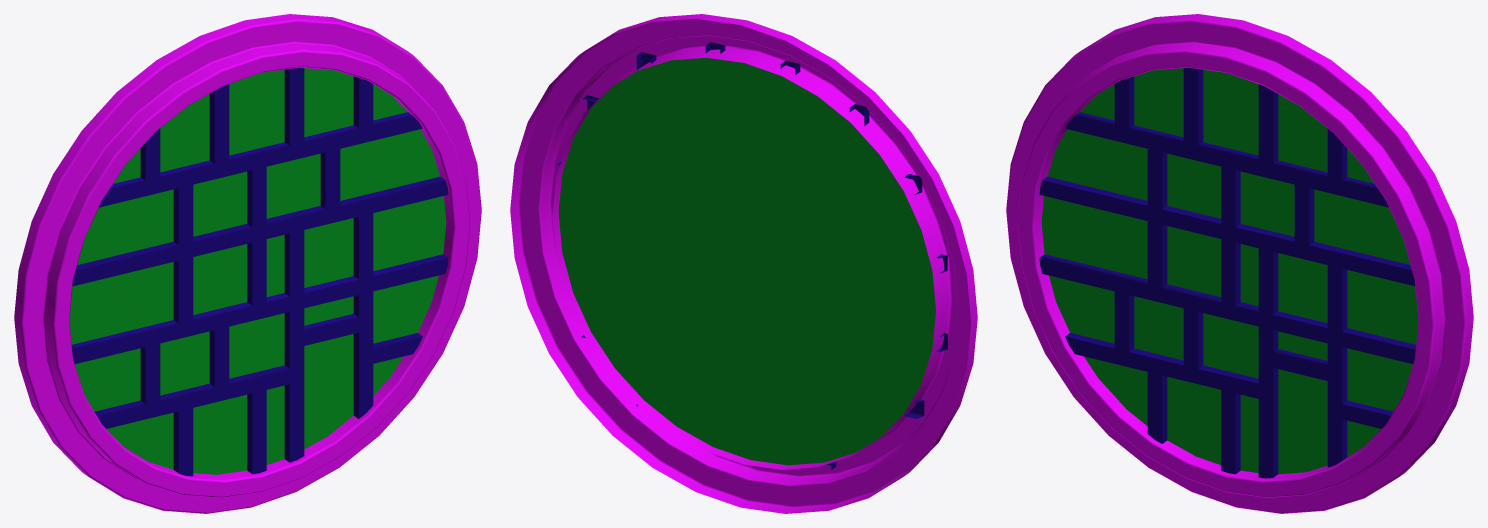
The model's file is Fenetre_Ronde_Grande_4x4x0_01.FBX.
3 views of the same model, side by side, from view 1: azimuth 30°, elevation 25°; view 2: azimuth 150°, elevation 25°; view 3: azimuth 330°, elevation 25° (orthographic).
Parts seen in each view (by area): view 1: Fenetre_Ronde_Grande_4x4x0_01; view 2: Fenetre_Ronde_Grande_4x4x0_01; view 3: Fenetre_Ronde_Grande_4x4x0_01.
Part boxes in pixels (x1,y1,x2,y2): Fenetre_Ronde_Grande_4x4x0_01: (14,14,481,513); Fenetre_Ronde_Grande_4x4x0_01: (510,14,977,513); Fenetre_Ronde_Grande_4x4x0_01: (1006,14,1473,513).
Bounding box in the file's own units: 299 × 299 × 20.08.
